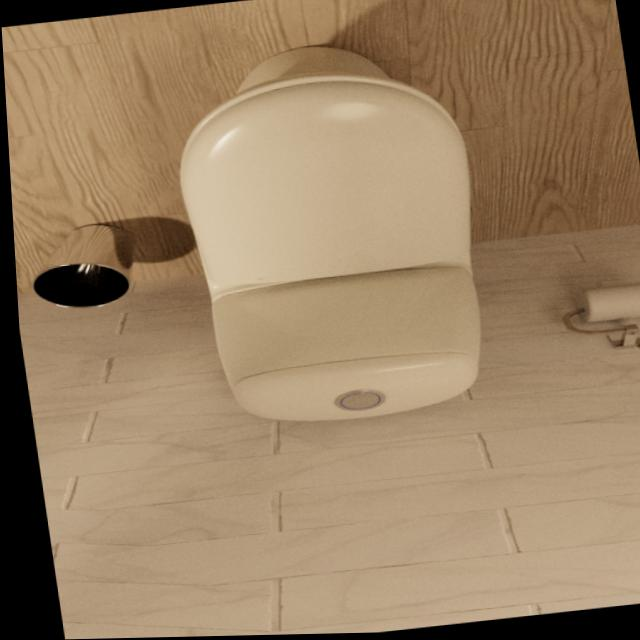toilet: (157, 33, 500, 437)
